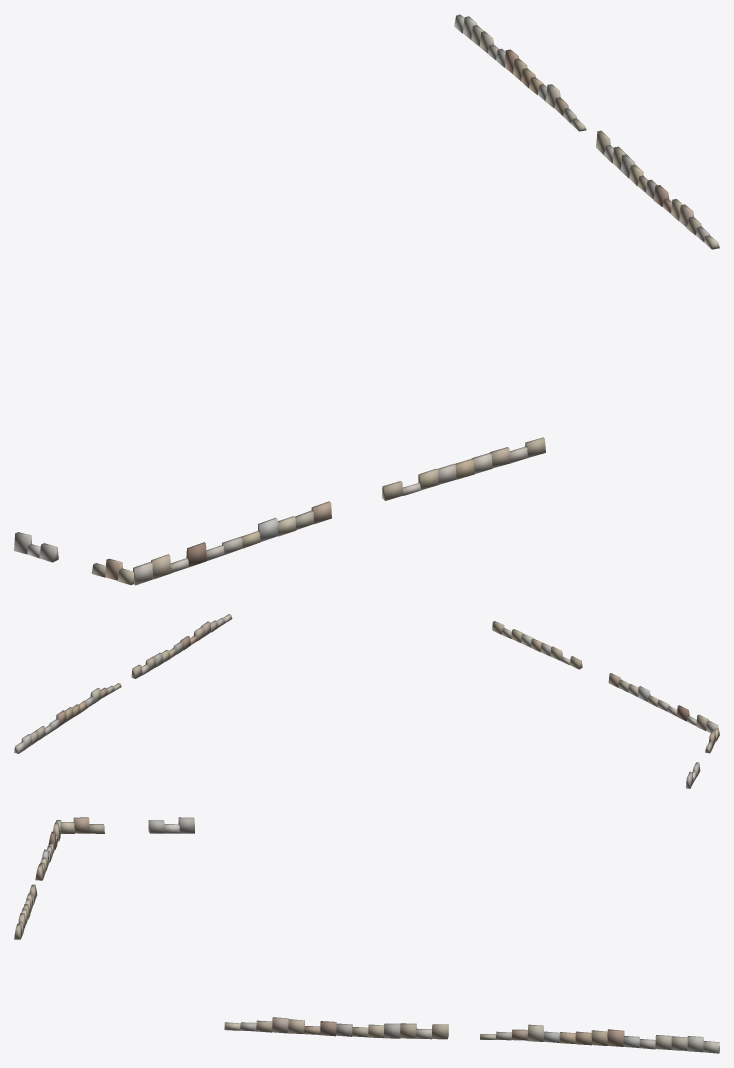
File: farm_-22_-25_far.glb
3 renders of one model, top to bottom at view 1: azimuth 30°, elevation 25°; view 2: azimuth 150°, elevation 25°; view 3: azimuth 270°, elevation 25°, orthographic. The views are drawn at different scales.
Visible parts, largest first — view 1: geometry_0; view 2: geometry_0; view 3: geometry_0.
Part boxes in pixels (x1=…): geometry_0: x1=14, y1=14, x2=719, y2=585; geometry_0: x1=14, y1=614, x2=719, y2=788; geometry_0: x1=14, y1=817, x2=719, y2=1053.
Size of the model in its own units: 70.57 by 11.31 by 68.27.
